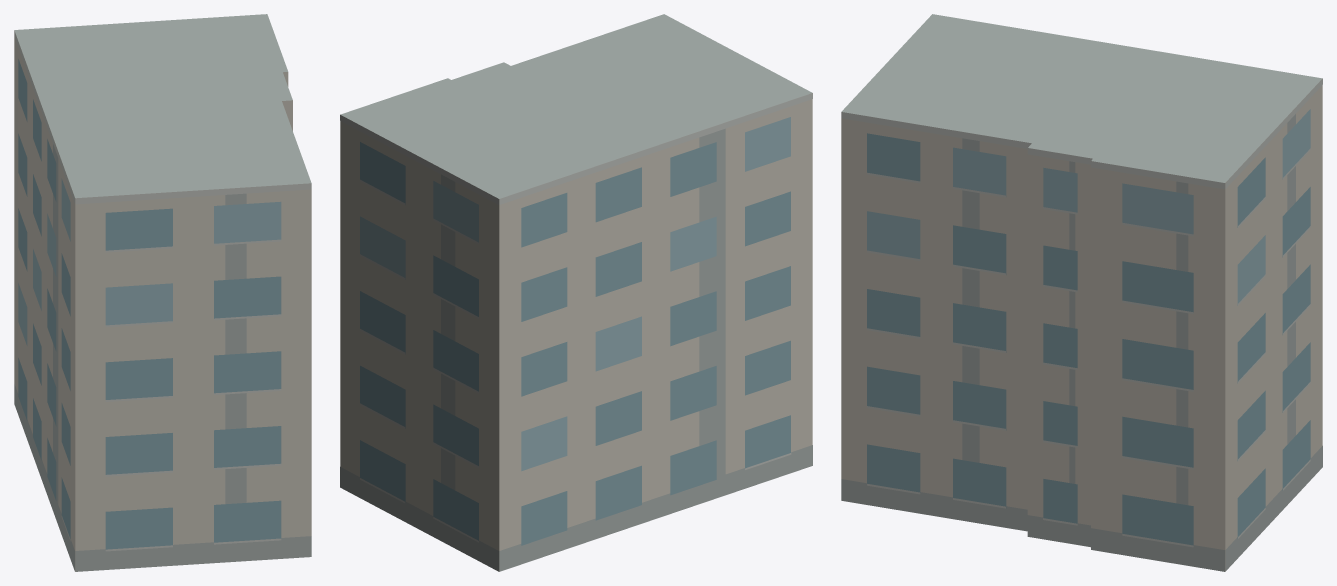
Rendered from survey-upis-32604144.glb.
The picture shows the model from 3 angles, left to right: view 1: azimuth 30°, elevation 25°; view 2: azimuth 150°, elevation 25°; view 3: azimuth 270°, elevation 25°; orthographic projection. The views are drawn at different scales.
Visible parts, largest first — view 1: survey-upis-32604144.tmp; view 2: survey-upis-32604144.tmp; view 3: survey-upis-32604144.tmp.
Boxes of the visible parts, box(x1,y1,x2,y2) form: survey-upis-32604144.tmp: box(14, 14, 311, 571); survey-upis-32604144.tmp: box(340, 14, 812, 571); survey-upis-32604144.tmp: box(841, 14, 1322, 571).
Bounding box in the file's own units: 13.72 × 14.7 × 16.51.
